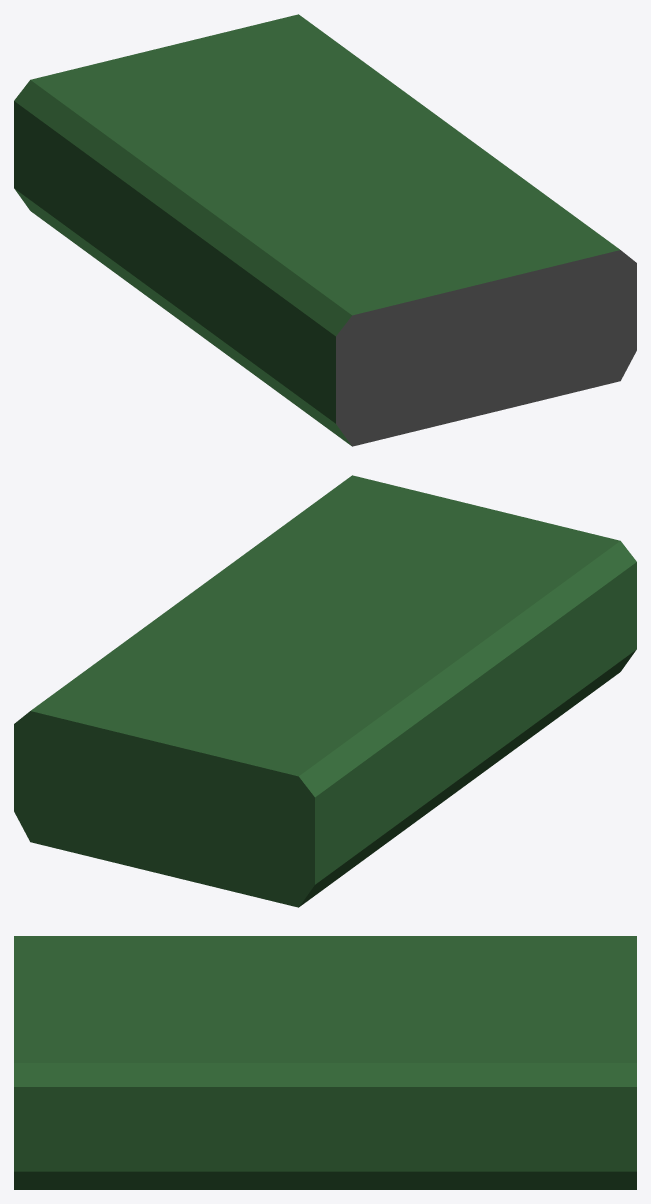
The model's file is pannier-tanks.dae.
The picture shows the model from 3 angles, top to bottom: view 1: azimuth 30°, elevation 25°; view 2: azimuth 150°, elevation 25°; view 3: azimuth 270°, elevation 25°; orthographic projection. The views are drawn at different scales.
Visible parts, largest first — view 1: Cube_005; view 2: Cube_005; view 3: Cube_005.
Part boxes in pixels (bbox=[...]): Cube_005: bbox=[14, 14, 636, 446]; Cube_005: bbox=[14, 475, 636, 907]; Cube_005: bbox=[14, 936, 636, 1189].
Size of the model in its own units: 1.56 by 2.89 by 0.6504.
